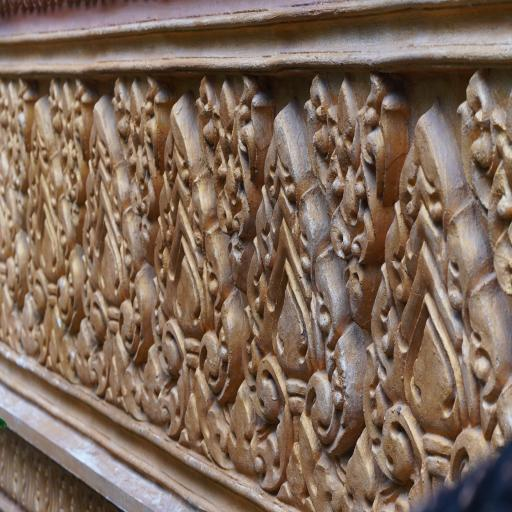lua: (362, 122, 507, 512), (226, 104, 358, 512), (139, 100, 259, 459), (50, 95, 168, 424), (0, 91, 93, 384), (308, 66, 405, 264), (454, 54, 512, 289), (204, 61, 270, 238), (113, 74, 173, 214), (42, 68, 91, 212), (0, 70, 37, 208)
